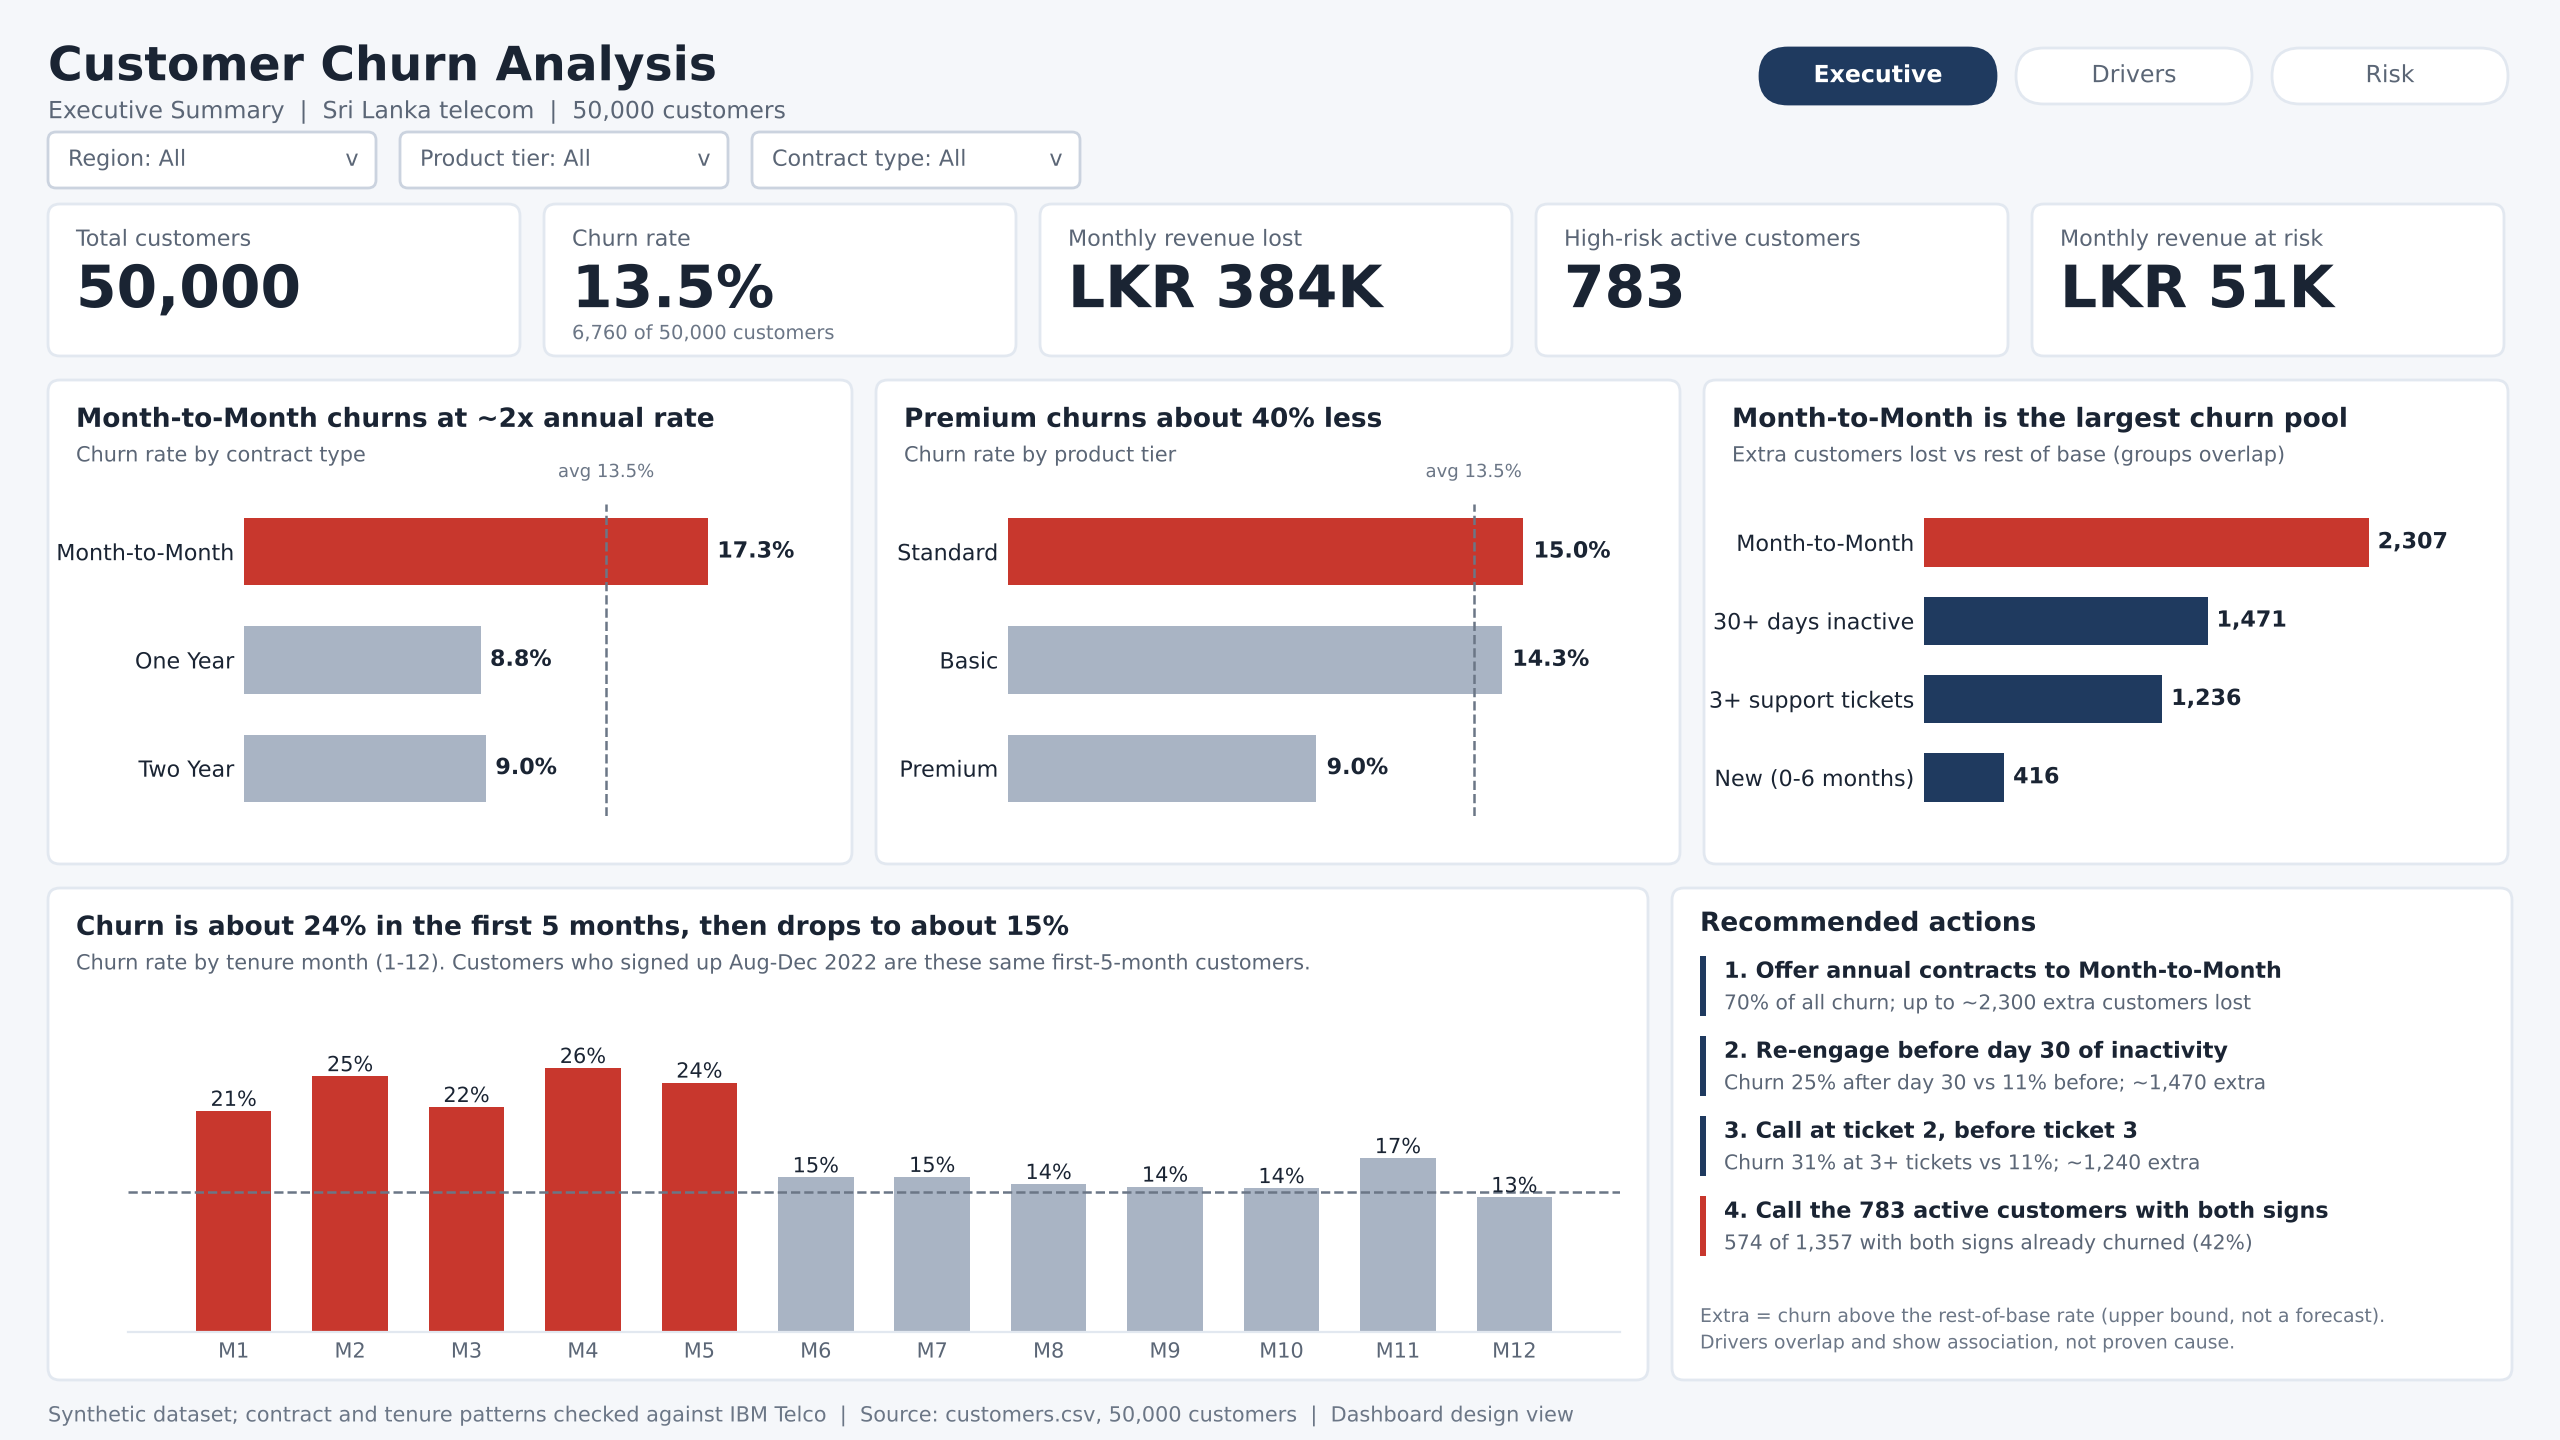

Layout of this report page (visuals, bound fields, positions):
{"tool":"powerbi","page":{"name":"Executive","canvas":[1280,720],"ordinal":0},"visuals":[{"type":"textbox","box":[32,0,752,48],"z":0},{"type":"textbox","box":[32,16,400,32],"z":1000},{"type":"pageNavigator","box":[879,22,376,32],"z":2000},{"type":"slicer","title":"Region","fields":{"Values":["customers.region"]},"box":[32,48,160,64],"z":3000},{"type":"slicer","title":"Product Tier","fields":{"Values":["customers.product_tier"]},"box":[208,48,160,64],"z":4000},{"type":"slicer","title":"Contract Type","fields":{"Values":["customers.contract_type"]},"box":[384,48,160,64],"z":5000},{"type":"textbox","box":[32,688,896,32],"z":6000},{"type":"card","title":"Total customers","fields":{"Values":["customers.Total Customers"]},"box":[32,128,240,64],"z":7000},{"type":"card","title":"Churn rate","fields":{"Values":["customers.Churn Rate"]},"box":[288,128,240,64],"z":8000},{"type":"card","title":"Monthly revenue lost","fields":{"Values":["customers.Monthly Revenue Lost"]},"box":[544,128,240,64],"z":9000},{"type":"card","title":"High-risk active customers","fields":{"Values":["customers.High Risk Customers"]},"box":[800,128,224,64],"z":10000},{"type":"card","title":"Monthly revenue at risk","fields":{"Values":["customers.Monthly Revenue at Risk"]},"box":[1040,128,224,64],"z":11000},{"type":"clusteredBarChart","title":"Month-to-Month churns at ~2x annual rate","fields":{"Category":["customers.contract_type"],"Y":["customers.Churn Rate"]},"box":[16,208,400,240],"z":12000},{"type":"clusteredBarChart","title":"Premium churns about 40% less","fields":{"Category":["customers.product_tier"],"Y":["customers.Churn Rate"]},"box":[432,208,416,240],"z":13000},{"type":"clusteredBarChart","title":"Month-to-Month is the largest churn pool","fields":{"Category":["Drivers.Driver"],"Y":["customers.Extra Churn by Driver"]},"box":[864,208,400,240],"z":14000},{"type":"clusteredColumnChart","title":"Churn is about 24% in the first 5 months, then drops to about 15%","fields":{"Category":["customers.tenure_months"],"Y":["customers.Churn Rate"]},"box":[16,464,816,224],"z":15000},{"type":"textbox","box":[848,464,416,224],"z":16000}]}

Visuals, with their boxes in screenshot pixels (x1, y1, x2, y2), scaled from the page's 1280x720 canvas onto the 2560x1440 screenshot:
textbox: left=64, top=0, right=1568, bottom=96
textbox: left=64, top=32, right=864, bottom=96
pageNavigator: left=1758, top=44, right=2510, bottom=108
"Region" slicer: left=64, top=96, right=384, bottom=224
"Product Tier" slicer: left=416, top=96, right=736, bottom=224
"Contract Type" slicer: left=768, top=96, right=1088, bottom=224
textbox: left=64, top=1376, right=1856, bottom=1439
"Total customers" card: left=64, top=256, right=544, bottom=384
"Churn rate" card: left=576, top=256, right=1056, bottom=384
"Monthly revenue lost" card: left=1088, top=256, right=1568, bottom=384
"High-risk active customers" card: left=1600, top=256, right=2048, bottom=384
"Monthly revenue at risk" card: left=2080, top=256, right=2528, bottom=384
"Month-to-Month churns at ~2x annual rate" clusteredBarChart: left=32, top=416, right=832, bottom=896
"Premium churns about 40% less" clusteredBarChart: left=864, top=416, right=1696, bottom=896
"Month-to-Month is the largest churn pool" clusteredBarChart: left=1728, top=416, right=2528, bottom=896
"Churn is about 24% in the first 5 months, then drops to about 15%" clusteredColumnChart: left=32, top=928, right=1664, bottom=1376
textbox: left=1696, top=928, right=2528, bottom=1376
